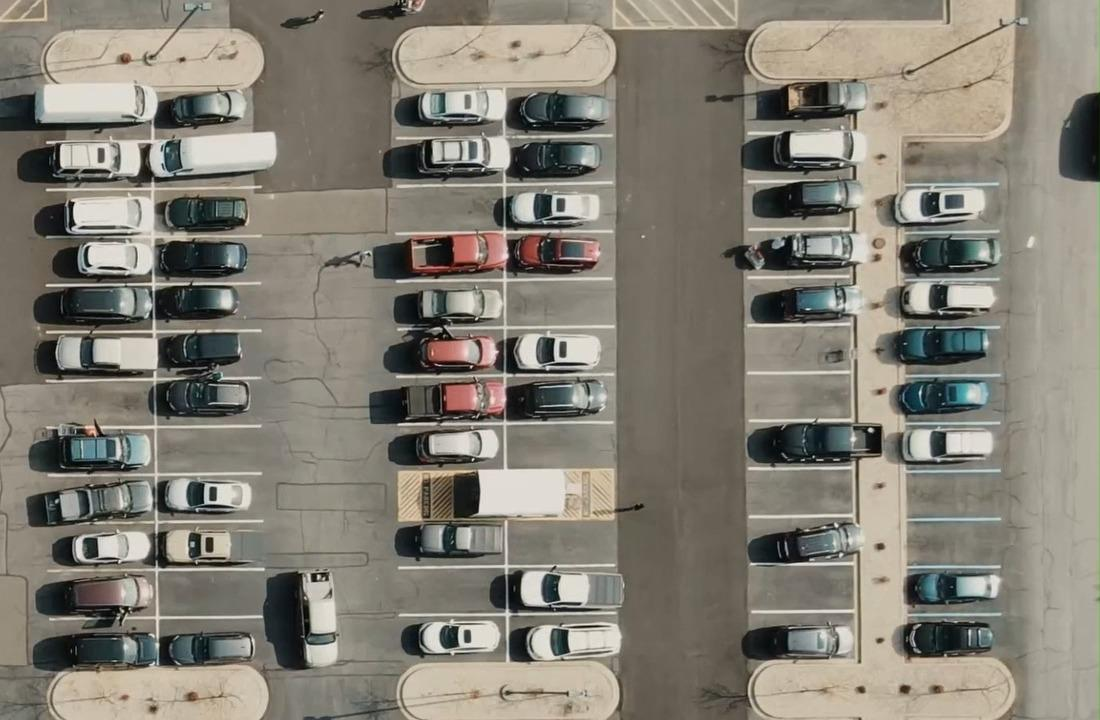car: (145, 130, 277, 180), (34, 419, 151, 473), (746, 419, 883, 465), (32, 81, 158, 126), (41, 478, 153, 525), (747, 520, 864, 564), (510, 567, 625, 611), (740, 230, 856, 271), (404, 231, 508, 275), (399, 378, 505, 421), (741, 621, 854, 661), (510, 621, 622, 661), (294, 569, 339, 667), (403, 328, 499, 372), (46, 138, 144, 181), (507, 377, 607, 419), (62, 573, 153, 618), (772, 128, 867, 171), (492, 190, 599, 228), (415, 133, 502, 179), (517, 89, 610, 132), (900, 234, 1001, 273), (898, 280, 997, 319), (507, 139, 602, 179), (58, 284, 152, 324), (893, 185, 986, 225), (511, 233, 601, 274), (510, 332, 602, 372), (402, 619, 500, 656), (68, 630, 158, 670), (159, 477, 252, 515), (895, 326, 988, 364), (416, 87, 506, 126), (896, 377, 989, 414), (903, 619, 993, 657), (157, 239, 247, 277), (901, 427, 993, 464), (779, 178, 863, 218), (415, 285, 503, 323), (162, 630, 254, 666), (413, 521, 504, 557), (63, 195, 144, 235), (413, 428, 500, 465), (154, 283, 239, 320), (162, 195, 248, 231), (168, 88, 247, 127), (70, 528, 152, 565), (75, 240, 153, 278), (162, 330, 242, 367), (913, 571, 1000, 604), (778, 283, 849, 321)
